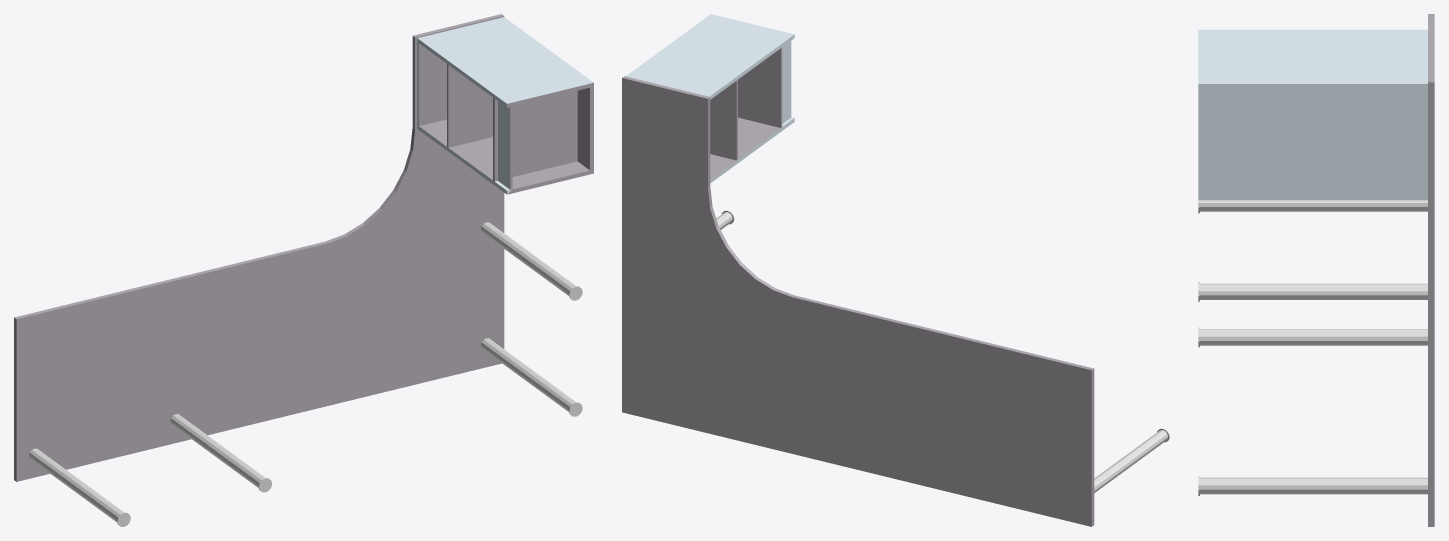
Rendered from Desk_1_FR.dae.
3 renders of one model, left to right at view 1: azimuth 30°, elevation 25°; view 2: azimuth 150°, elevation 25°; view 3: azimuth 270°, elevation 25°, orthographic. The views are drawn at different scales.
Visible parts, largest first — view 1: node0; view 2: node0; view 3: node0.
Part boxes in pixels (bbox=[...]): node0: bbox=[14, 14, 593, 526]; node0: bbox=[622, 14, 1169, 526]; node0: bbox=[1198, 14, 1434, 526].
Size of the model in its own units: 2.19 by 0.718 by 1.49.
